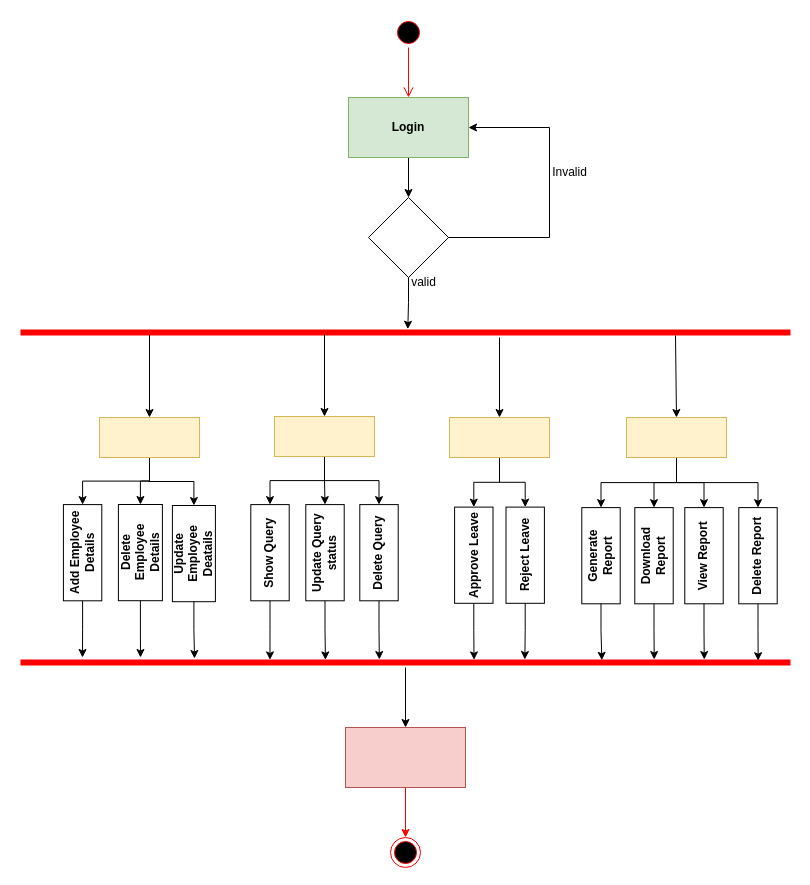
Some shapes in this 810 by 885 pixel diagram are drawn without their labels. The shapes that lost their labels are listed below. From the top down, each one's centre as x and y in pixels, then its label:
point (408, 237): Authentication
point (149, 437): Mange employee
point (324, 436): Mange Query
point (499, 437): Mange Leave
point (676, 437): Manage Salary Report
point (405, 757): Logout
